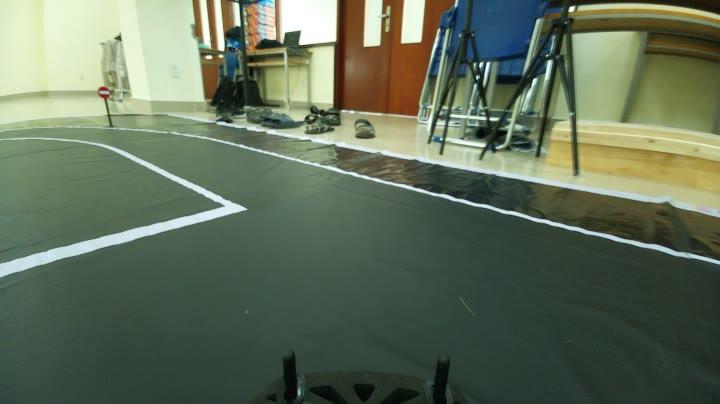no_entry: (94, 82, 112, 100)
